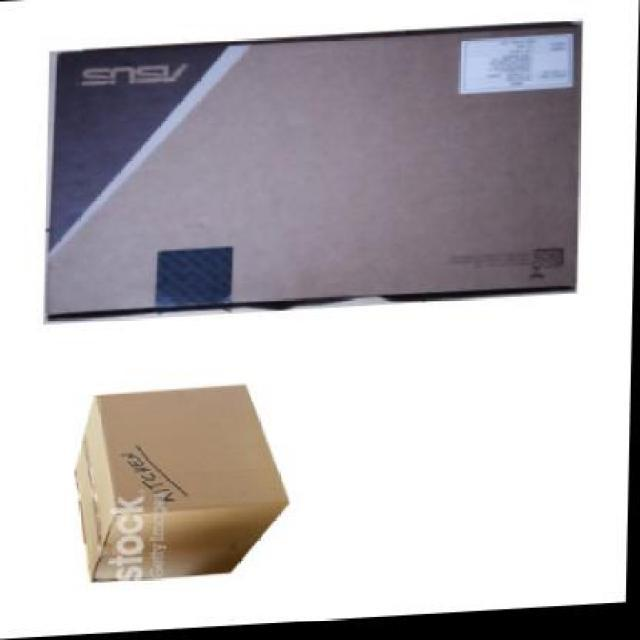box: (46, 24, 583, 323), (73, 386, 290, 587)
